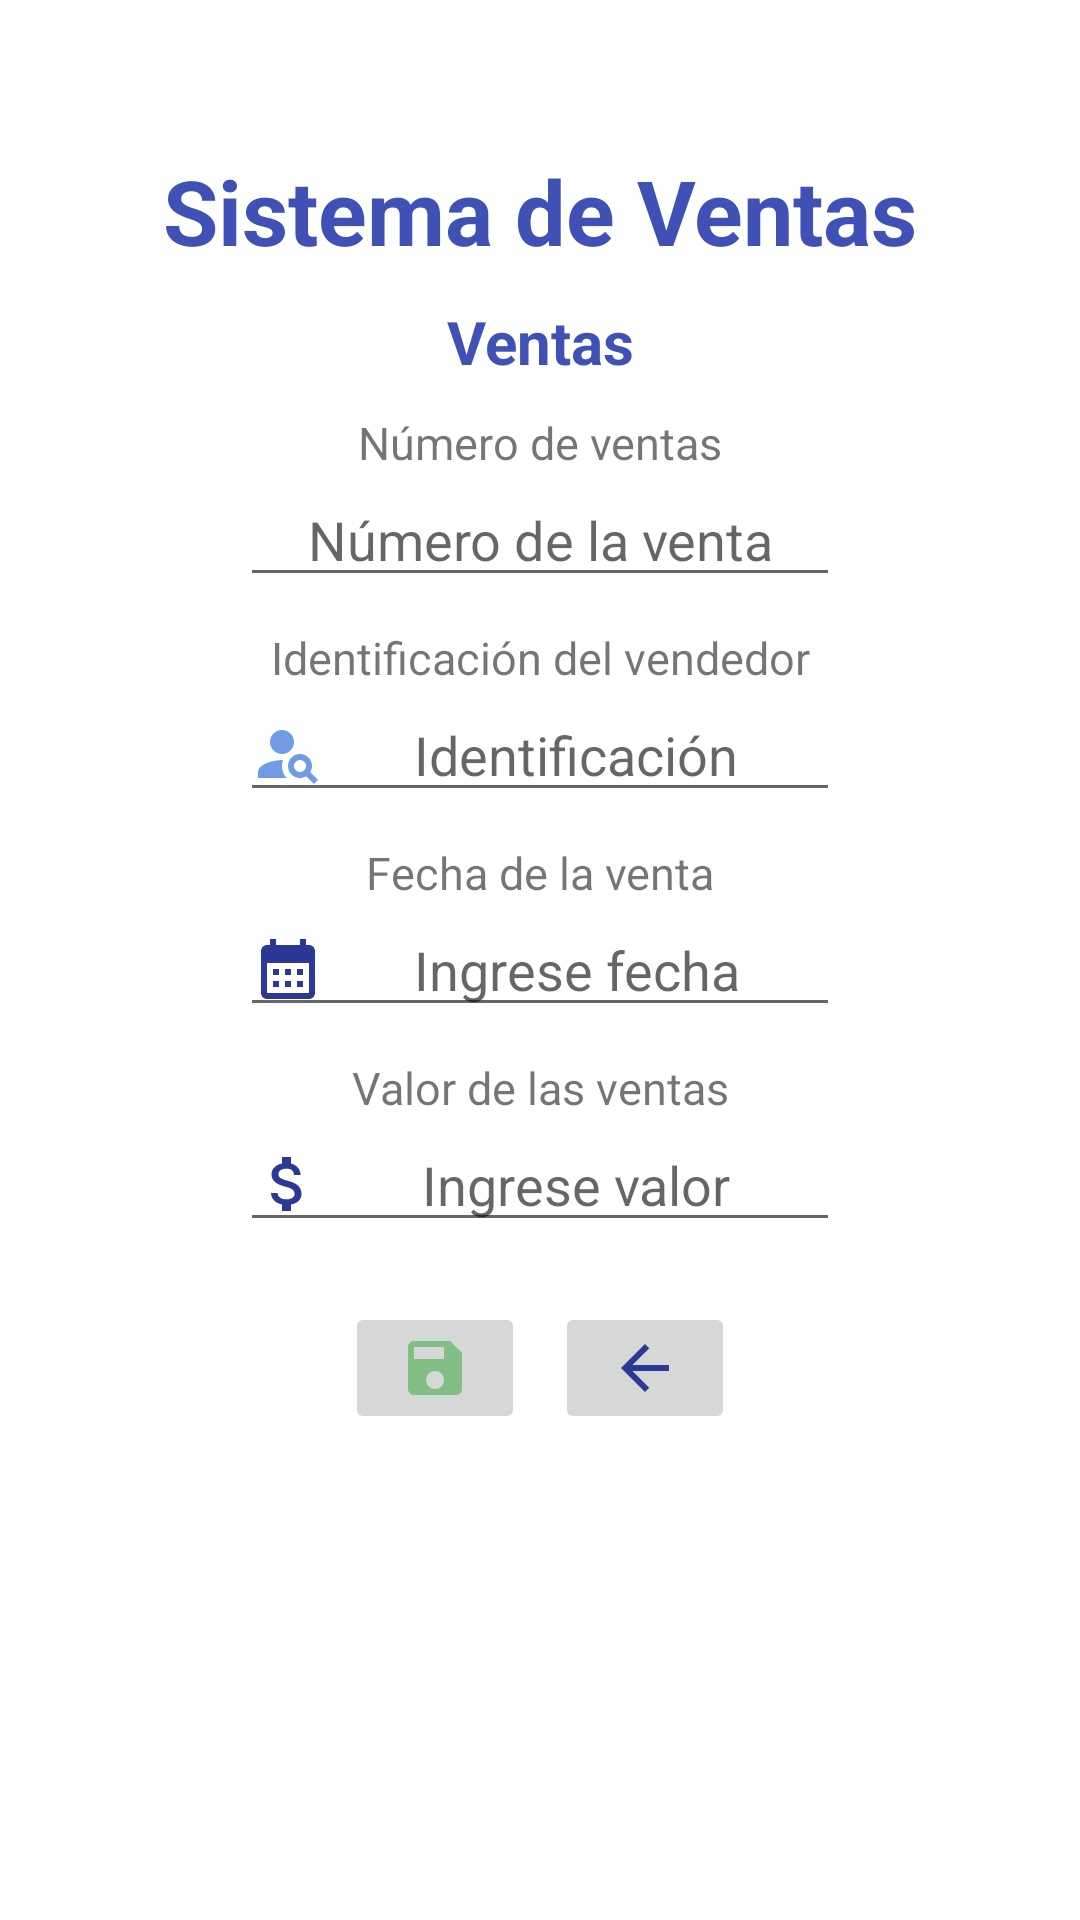

Icons on this 1080 x 1920 Android screen, each with its box as (x1, y1, x2, y2):
arrow back: (567, 1320, 723, 1416)
save: (357, 1320, 513, 1416)
